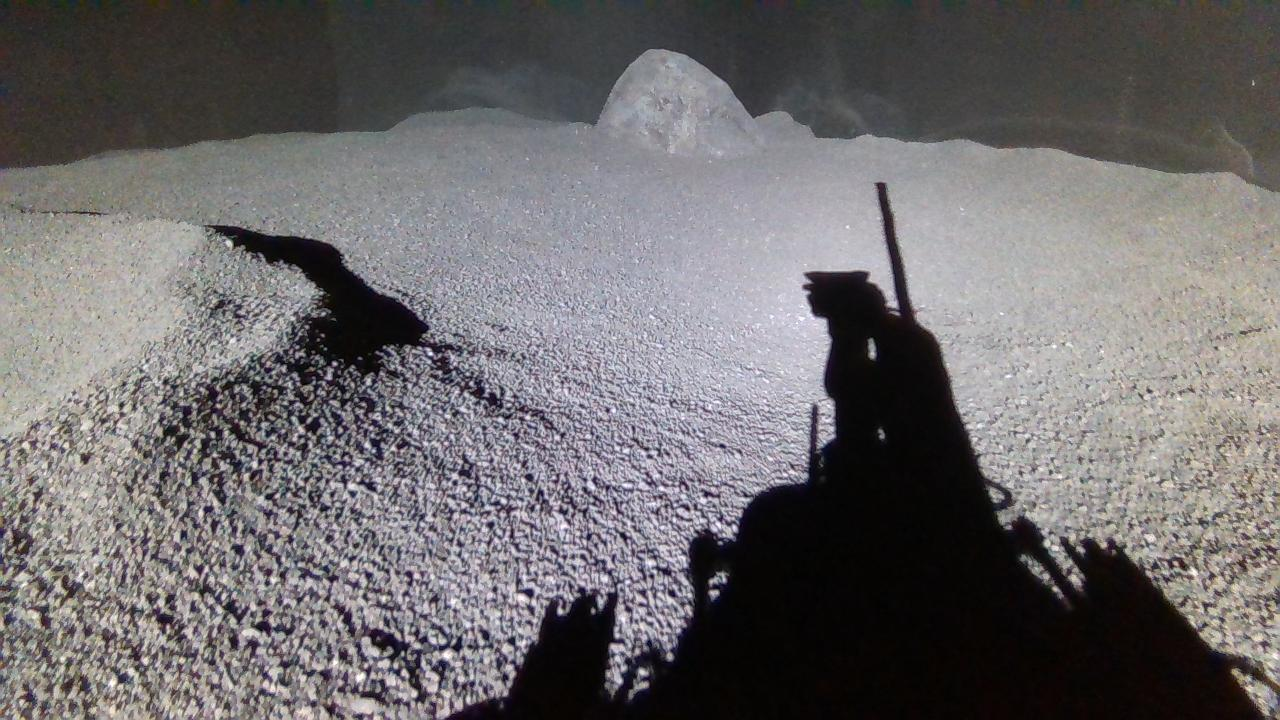rock: (598, 48, 765, 155)
